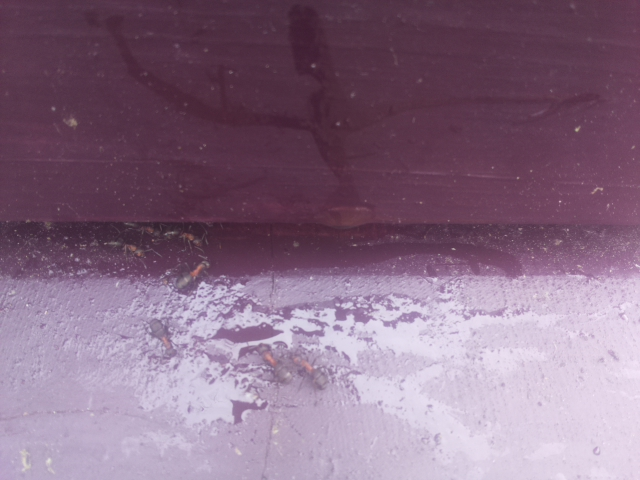ant: (256, 336, 295, 392), (285, 351, 332, 393), (169, 255, 215, 293), (144, 314, 179, 358)
